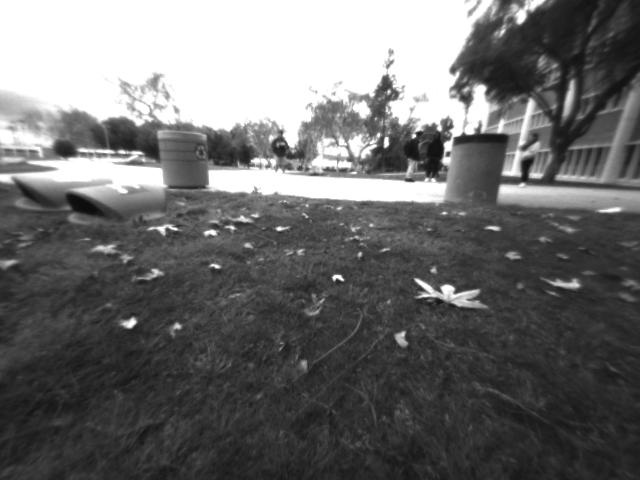trashcan: (156, 126, 221, 192), (449, 132, 501, 213)
